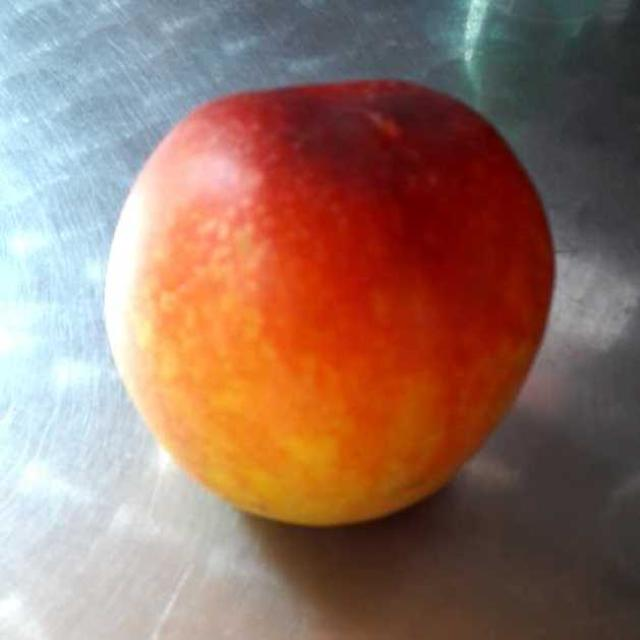peach: (130, 96, 552, 521)
